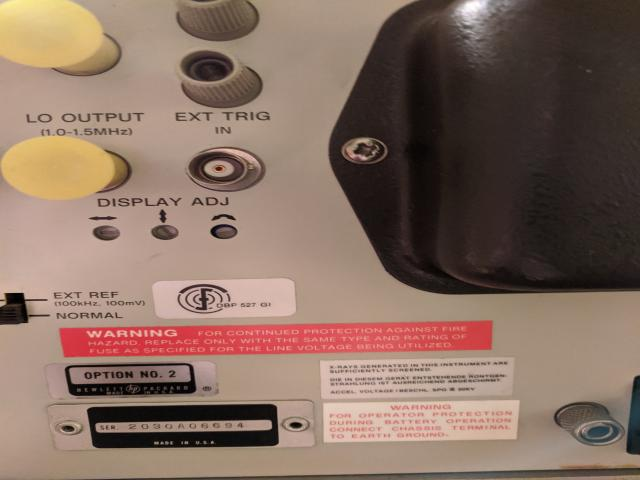CRS: (340, 136, 388, 165)
